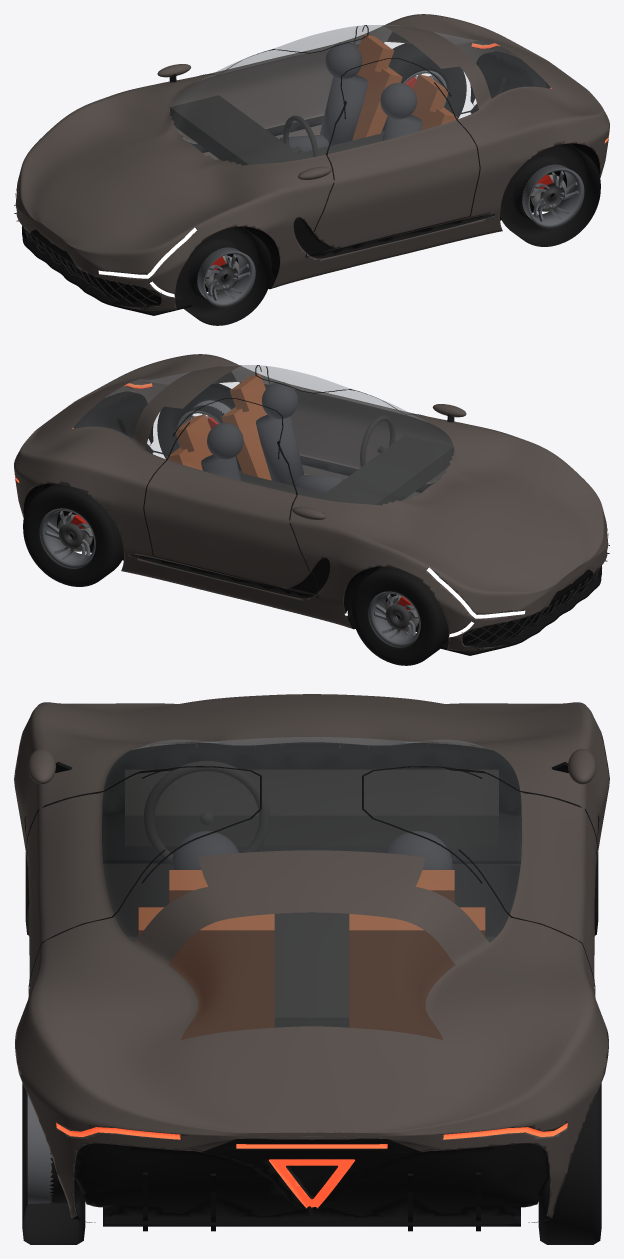
File: carro-v3.glb
3 views of the same model, one above another, from view 1: azimuth 30°, elevation 25°; view 2: azimuth 150°, elevation 25°; view 3: azimuth 270°, elevation 25° (orthographic). The views are drawn at different scales.
Parts seen in each view (by area): view 1: Carroceria, Tablero, Llanta.002, Llanta, Piloto.004, Llanta.003, Respaldo.001, Rin.002, Rin, Splitter, Cabeza, Cabeza.001 (+9 smaller); view 2: Carroceria, Llanta.003, Tablero, Llanta.001, Piloto, Llanta.002, Respaldo, Rin.003, Splitter, Rin.001, Cabeza.001, Cabeza (+12 smaller); view 3: Carroceria, Tablero, Respaldo, Respaldo.001, Tunel, Llanta.003, Splitter, Llanta.002, Volante, Rin.002, Cabeza, Cabeza.001 (+4 smaller).
Boxes of the visible parts, <box> form: Carroceria: <box>15,14,609,310</box>; Tablero: <box>170,95,305,165</box>; Llanta.002: <box>500,143,600,246</box>; Llanta: <box>174,226,271,325</box>; Piloto.004: <box>319,74,367,145</box>; Llanta.003: <box>382,43,466,130</box>; Respaldo.001: <box>352,62,402,140</box>; Rin.002: <box>522,164,584,228</box>; Rin: <box>197,247,255,307</box>; Splitter: <box>22,236,192,315</box>; Cabeza: <box>380,82,416,119</box>; Cabeza.001: <box>325,42,362,79</box>; Carroceria: <box>14,354,608,650</box>; Llanta.003: <box>23,483,123,586</box>; Tablero: <box>318,435,453,505</box>; Llanta.001: <box>352,566,449,665</box>; Piloto: <box>256,414,304,485</box>; Llanta.002: <box>157,383,241,470</box>; Respaldo: <box>221,402,271,480</box>; Rin.003: <box>39,508,95,568</box>; Splitter: <box>439,576,601,655</box>; Rin.001: <box>368,591,420,647</box>; Cabeza.001: <box>207,422,243,459</box>; Cabeza: <box>261,382,298,419</box>; Carroceria: <box>14,694,609,1226</box>; Tablero: <box>125,769,498,846</box>; Respaldo: <box>138,907,274,1039</box>; Respaldo.001: <box>349,907,485,1039</box>; Tunel: <box>274,912,349,1027</box>; Llanta.003: <box>538,1083,601,1244</box>; Splitter: <box>102,813,521,863</box>; Llanta.002: <box>22,1083,85,1244</box>; Volante: <box>143,760,269,865</box>; Rin.002: <box>27,1095,53,1203</box>; Cabeza: <box>171,831,239,869</box>; Cabeza.001: <box>384,831,452,869</box>.
Size of the model in its own units: 3.38 by 1.06 by 1.75.
